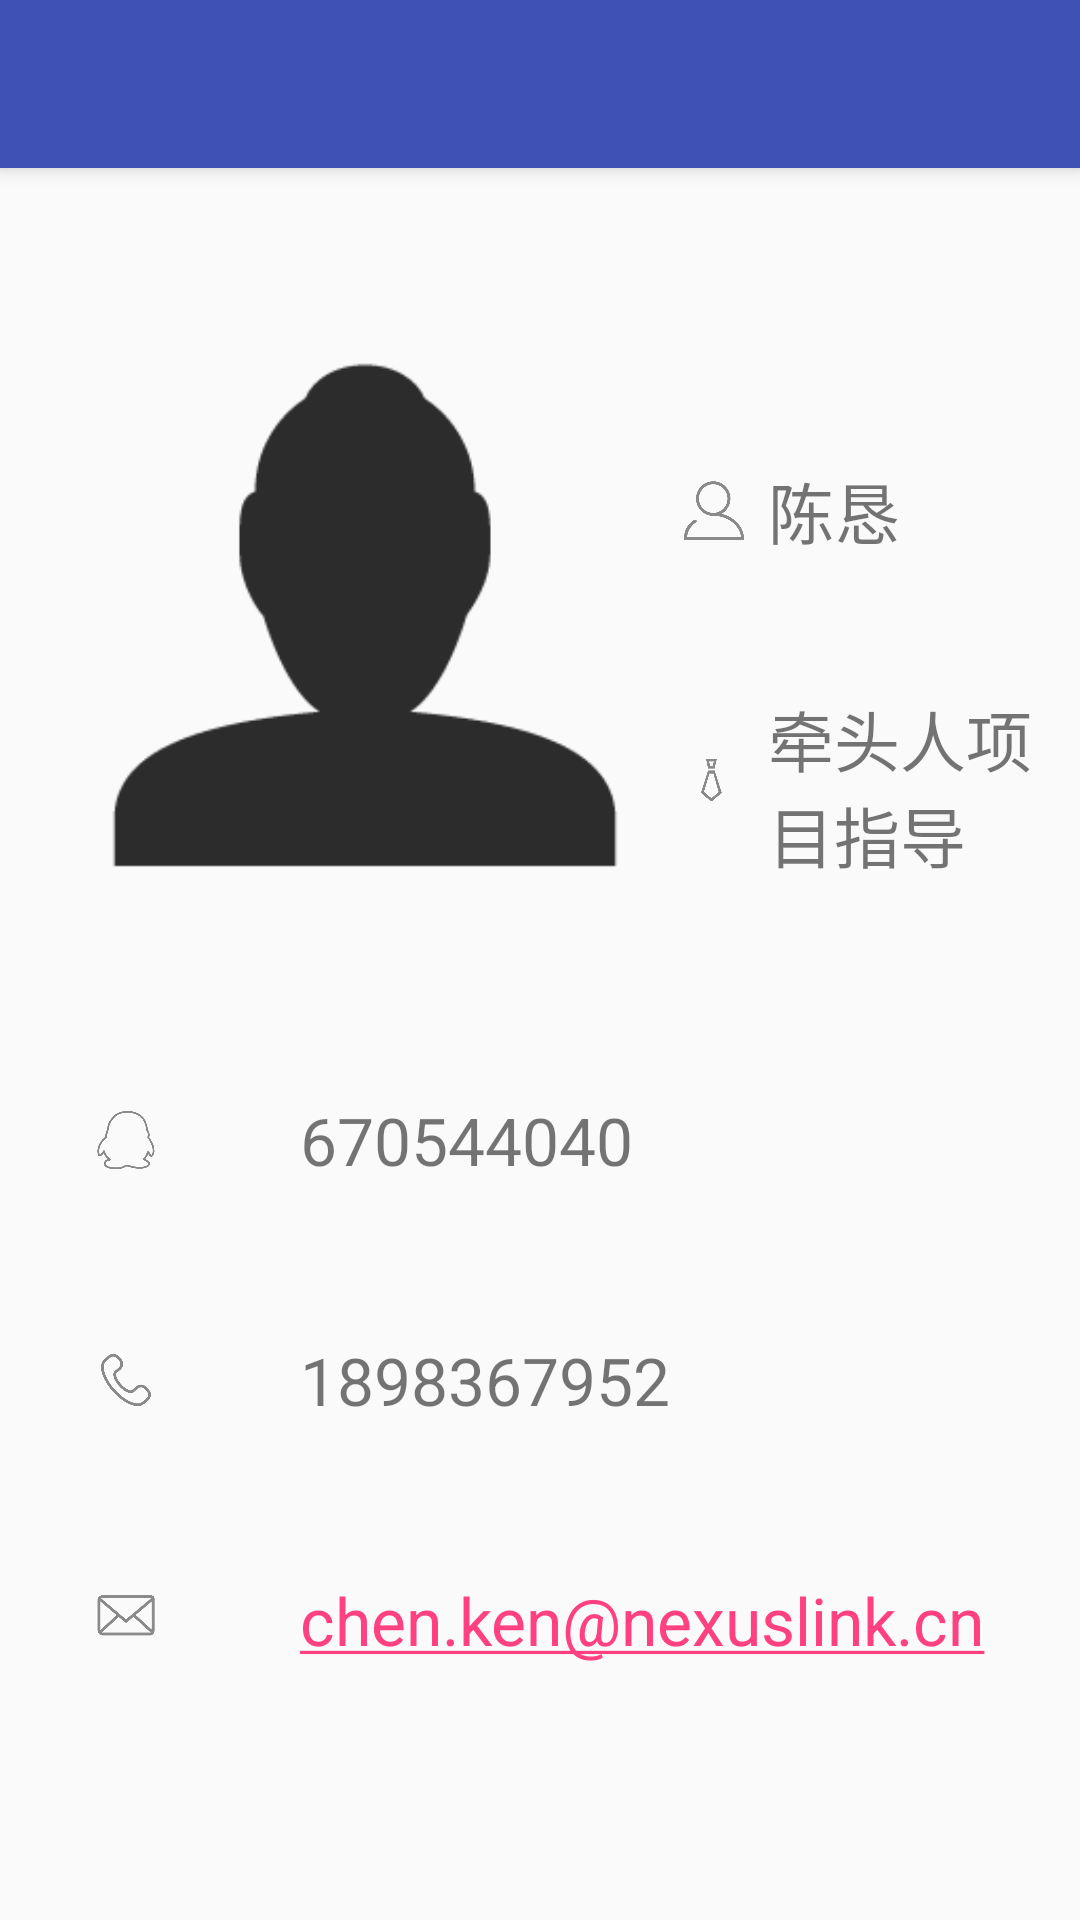

Icon click points for this 1080×1920 phone screenshot, format point (x, y):
duty: point (711, 780)
email: point (126, 1615)
phone: point (126, 1380)
